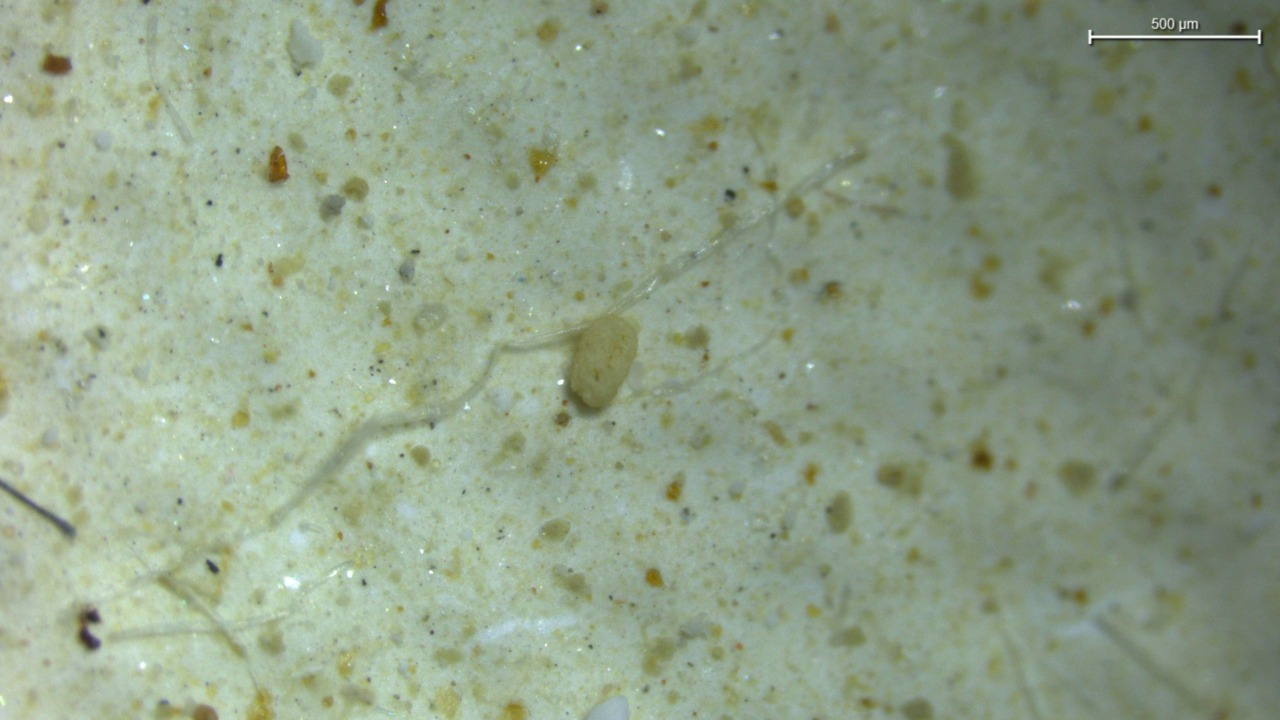microplastic_fragment: (567, 314, 638, 409)
